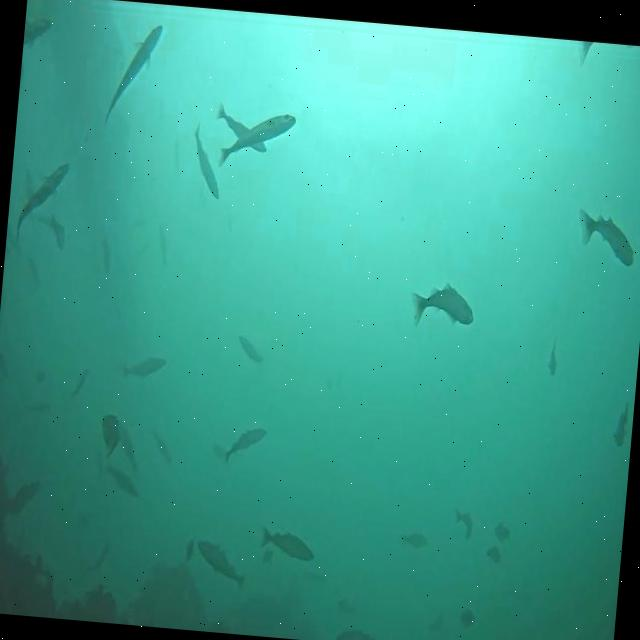fish: (104, 21, 160, 128), (14, 160, 71, 244), (220, 107, 296, 165), (573, 205, 638, 268), (190, 122, 224, 200), (414, 284, 473, 328), (194, 540, 248, 588), (216, 110, 270, 154), (261, 527, 316, 561), (224, 426, 266, 466), (105, 463, 141, 499), (114, 424, 139, 470), (124, 352, 168, 378), (99, 414, 123, 458), (26, 14, 54, 46), (46, 216, 68, 247), (453, 509, 474, 541), (613, 402, 629, 443), (238, 336, 262, 362), (88, 543, 110, 570), (335, 626, 375, 640), (156, 224, 169, 264), (72, 367, 88, 399), (22, 167, 36, 203), (402, 530, 428, 549), (100, 236, 113, 274), (154, 433, 172, 459), (546, 341, 559, 375), (485, 544, 504, 564), (492, 522, 510, 542), (460, 606, 474, 624)
